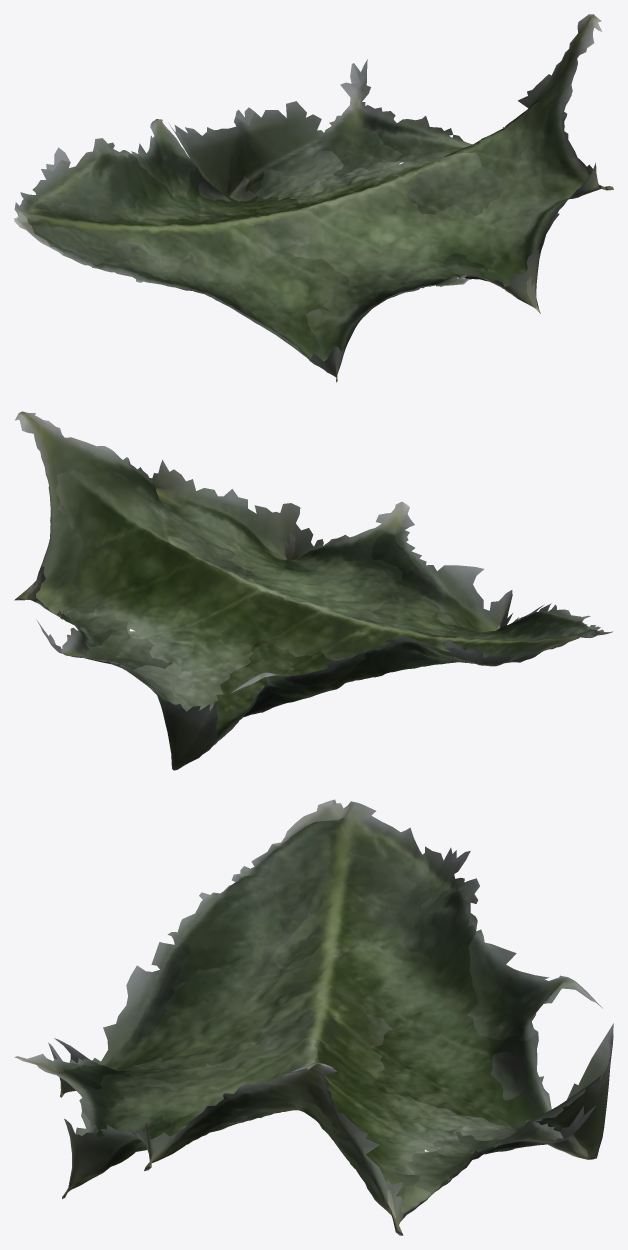
File: leaf-08.glb
3 renders of one model, top to bottom at view 1: azimuth 30°, elevation 25°; view 2: azimuth 150°, elevation 25°; view 3: azimuth 270°, elevation 25°, orthographic. The views are drawn at different scales.
Visible parts, largest first — view 1: Mesh; view 2: Mesh; view 3: Mesh.
Boxes of the visible parts, left/top/right/bottom form: Mesh: left=14, top=14, right=613, bottom=382; Mesh: left=14, top=411, right=612, bottom=770; Mesh: left=14, top=799, right=613, bottom=1235.
Bounding box in the file's own units: 0.1562 × 0.0526 × 0.1126.
Materials: 1 (1 with a texture image).
